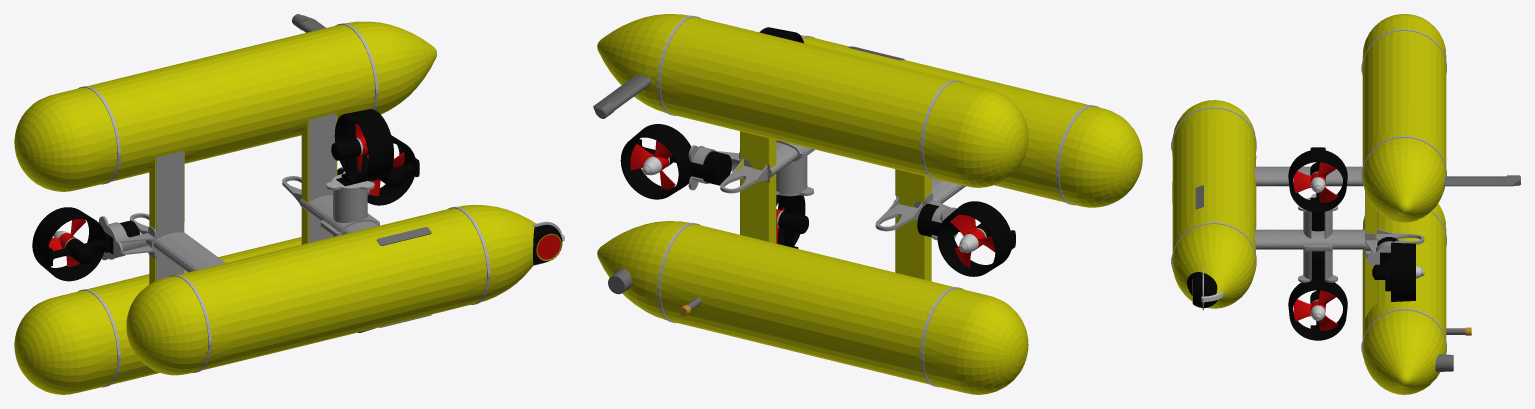
The model's file is girona500.dae.
3 views of the same model, side by side, from view 1: azimuth 30°, elevation 25°; view 2: azimuth 150°, elevation 25°; view 3: azimuth 270°, elevation 25° (orthographic). The views are drawn at different scales.
Visible parts, largest first — view 1: mesh; view 2: mesh; view 3: mesh.
Boxes of the visible parts, bbox=[...] form: mesh: bbox=[14, 14, 564, 394]; mesh: bbox=[593, 14, 1142, 394]; mesh: bbox=[1171, 14, 1520, 394].
Bounding box in the file's own units: 1.53 × 1.29 × 1.01.
